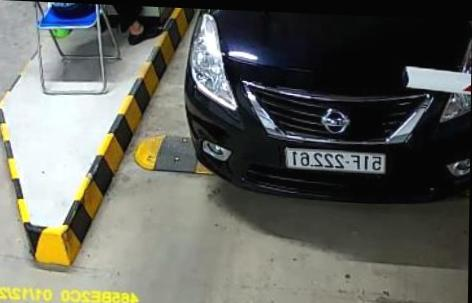License_Plate: (283, 144, 388, 177)
